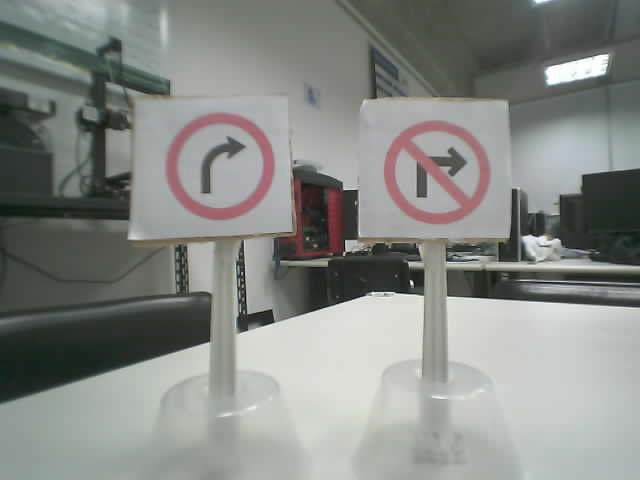R-25b_direita: (165, 112, 276, 220)
R-4b_proibido-direita: (382, 119, 491, 224)
